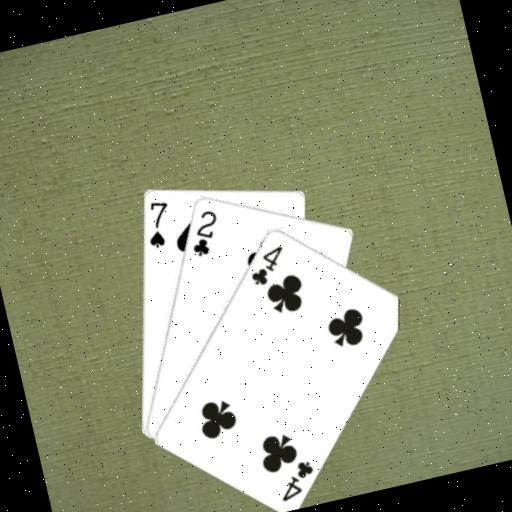2C: (181, 205, 226, 260)
4C: (271, 455, 321, 504), (242, 242, 292, 290)
7S: (137, 195, 178, 251)
